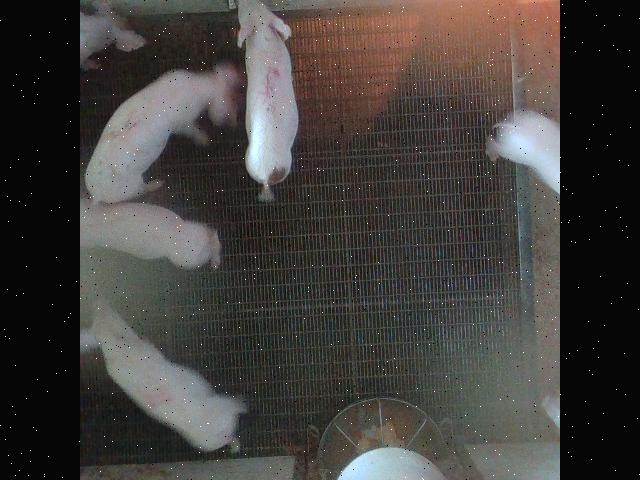pig-4: (80, 299, 246, 450)
pig-5: (237, 0, 298, 200)
